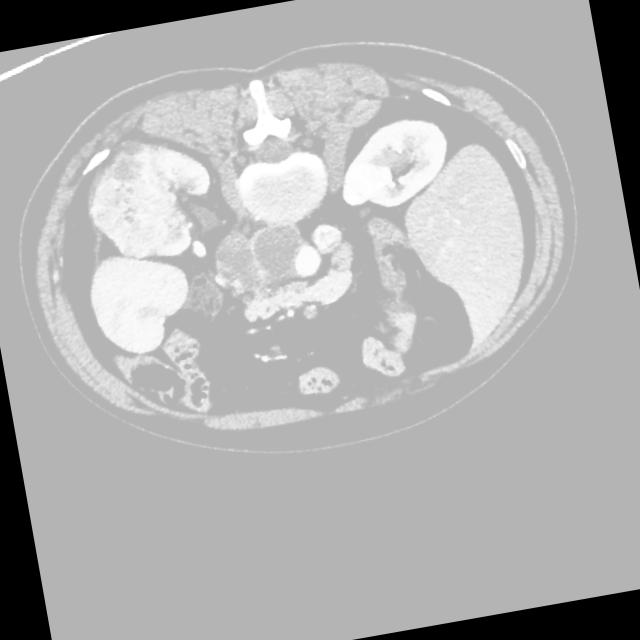TUMOR: (75, 140, 439, 422)
